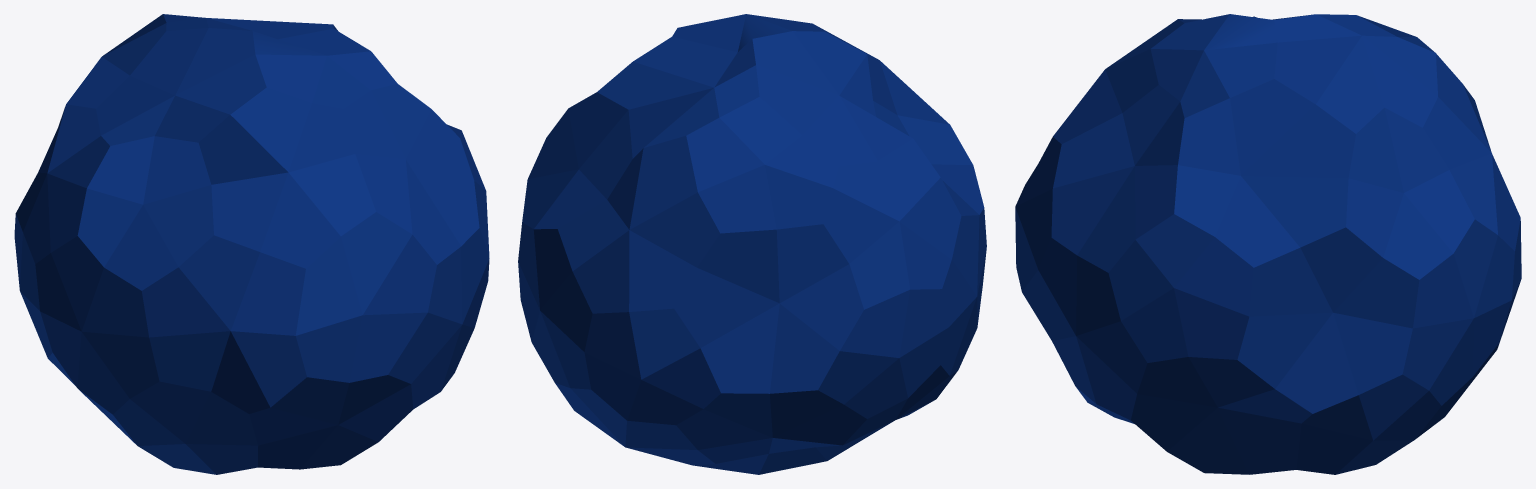
File: planet 3.obj
3 views of the same model, side by side, from view 1: azimuth 30°, elevation 25°; view 2: azimuth 150°, elevation 25°; view 3: azimuth 270°, elevation 25° (orthographic). The views are drawn at different scales.
Visible parts, largest first — view 1: pSolid1; view 2: pSolid1; view 3: pSolid1.
Boxes of the visible parts, box(x1,y1,x2,y2) form: pSolid1: box(14, 14, 489, 474); pSolid1: box(518, 14, 986, 474); pSolid1: box(1015, 14, 1521, 474).
Bounding box in the file's own units: 208 × 200 × 215.
